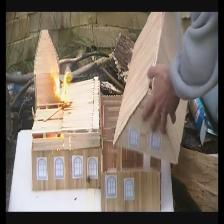fire: (53, 71, 72, 108)
